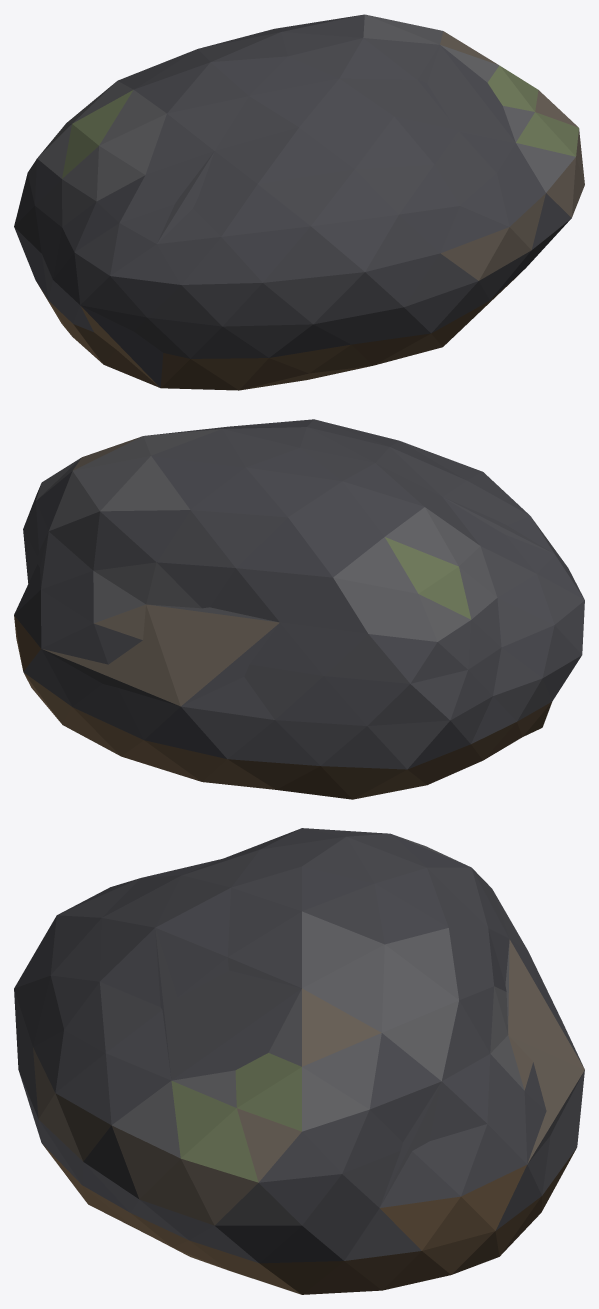
File: Boulders.fbx
3 views of the same model, one above another, from view 1: azimuth 30°, elevation 25°; view 2: azimuth 150°, elevation 25°; view 3: azimuth 270°, elevation 25° (orthographic). The views are drawn at different scales.
Visible parts, largest first — view 1: Boulder_04, Boulder_04_Far; view 2: Boulder_04, Boulder_04_Far; view 3: Boulder_04, Boulder_04_Far.
Part boxes in pixels (bbox=[...]): Boulder_04: bbox=[14, 14, 584, 390]; Boulder_04_Far: bbox=[80, 45, 515, 387]; Boulder_04: bbox=[14, 419, 584, 799]; Boulder_04_Far: bbox=[30, 497, 553, 706]; Boulder_04: bbox=[14, 828, 584, 1294]; Boulder_04_Far: bbox=[92, 927, 584, 1244].
Size of the model in its own units: 7.43 by 3.4 by 5.84.
1 material, 1 textured.
